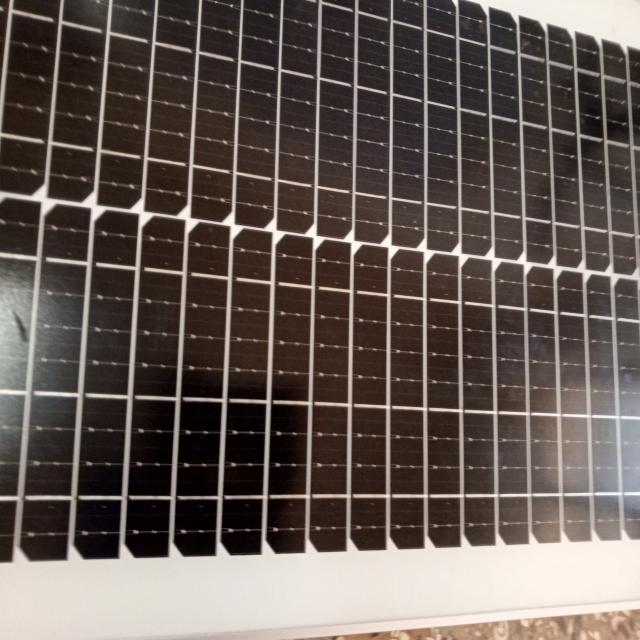Clean: (6, 11, 634, 572)
